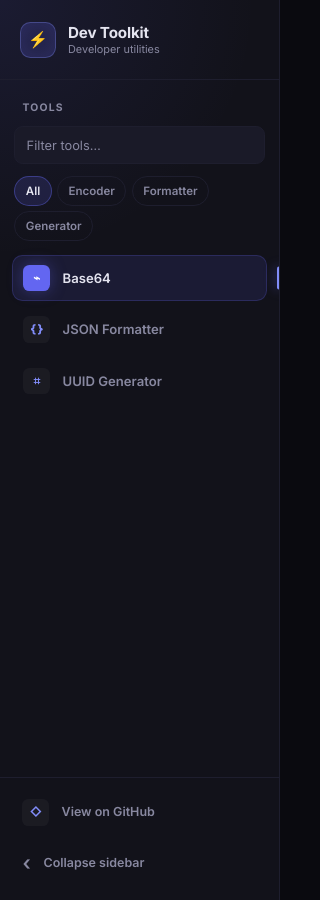
Scenario: Sidebar search input › matches on category
The width and height of the screenshot is (320, 900).
Type "encoder" into the search field labelled "Filter tools" at (140, 145), box [14, 126, 265, 164]
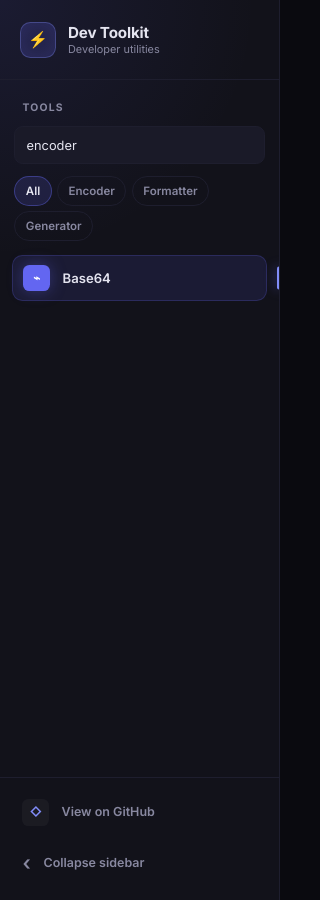
Check: the button "⌁ Base64" is shown, box [12, 255, 267, 301]
Check: the button "JSON Formatter" is gone
